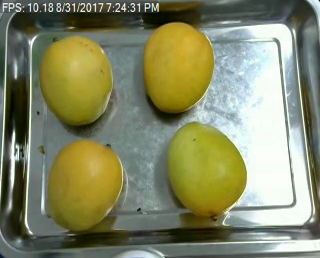Mango: (166, 121, 247, 216), (46, 138, 124, 230), (142, 21, 214, 112), (40, 36, 114, 124)
